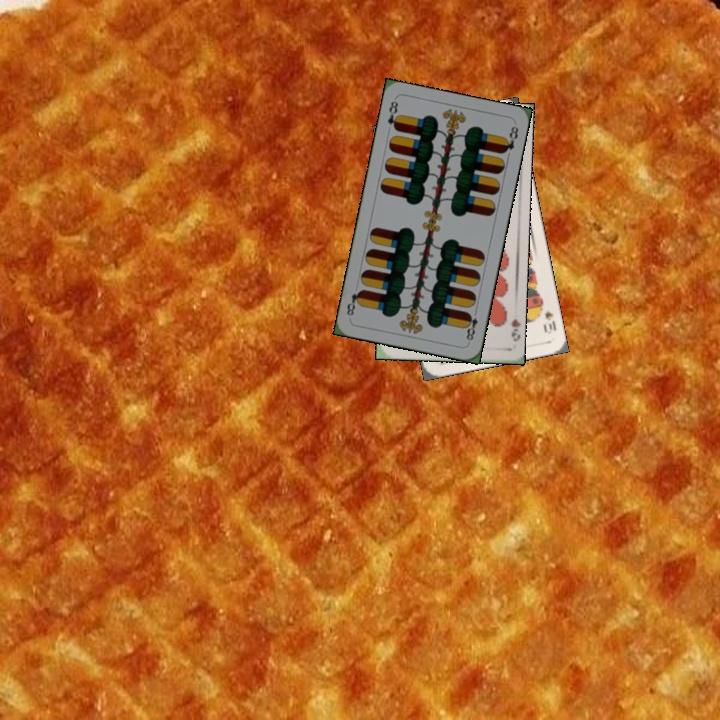E8: (461, 305, 480, 345), (383, 97, 402, 133)
H9: (507, 315, 521, 344)
S10: (539, 306, 559, 336)
